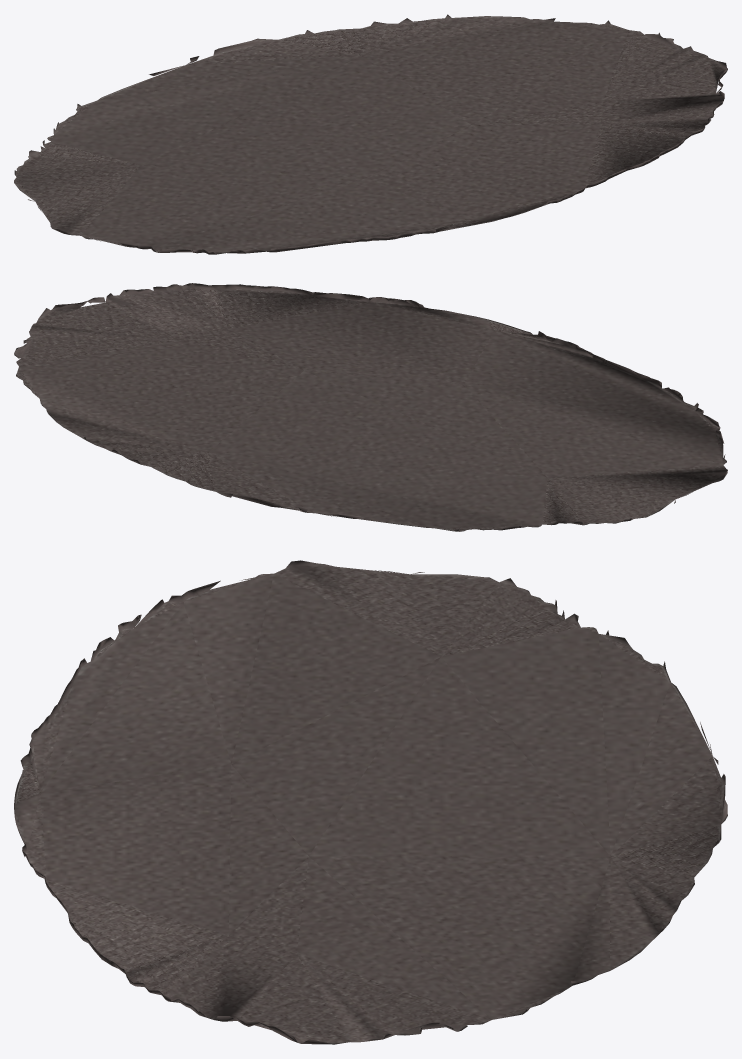
The model's file is Meshy_AI_ground_stylized_undead_mire_20261030_texture.fbx.
3 renders of one model, top to bottom at view 1: azimuth 30°, elevation 25°; view 2: azimuth 150°, elevation 25°; view 3: azimuth 270°, elevation 25°, orthographic. The views are drawn at different scales.
Visible parts, largest first — view 1: Mesh_0; view 2: Mesh_0; view 3: Mesh_0.
Part boxes in pixels (left/top/right/bottom): Mesh_0: left=14, top=14, right=727, bottom=254; Mesh_0: left=14, top=283, right=727, bottom=531; Mesh_0: left=14, top=560, right=727, bottom=1044.
Bounding box in the file's own units: 200 × 1.34 × 125.
1 material, 1 textured.
